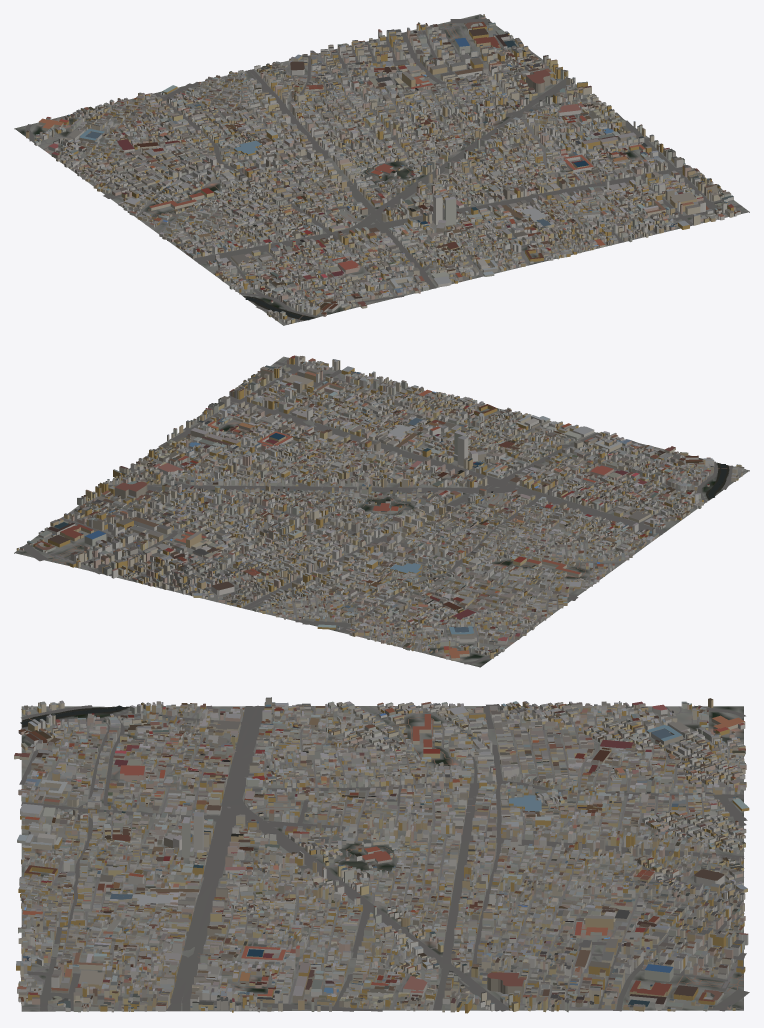
3 renders of one model, top to bottom at view 1: azimuth 30°, elevation 25°; view 2: azimuth 150°, elevation 25°; view 3: azimuth 270°, elevation 25°, orthographic. The views are drawn at different scales.
Visible parts, largest first — view 1: buildings, ground, roads; view 2: buildings, ground, roads; view 3: buildings, ground, roads, water.
Part boxes in pixels (x1,y1,x2,y2): buildings: [26, 14, 740, 323]; ground: [14, 14, 749, 325]; roads: [25, 14, 744, 324]; buildings: [16, 355, 744, 660]; ground: [14, 356, 749, 667]; roads: [15, 357, 747, 664]; buildings: [14, 697, 749, 1013]; ground: [21, 706, 743, 1011]; roads: [19, 704, 749, 1011]; water: [20, 705, 129, 727].
Size of the model in its own units: 1421 by 82.28 by 1427.
